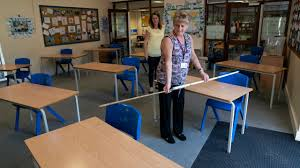desk: (153, 74, 253, 152), (0, 80, 78, 131), (214, 59, 287, 108), (72, 61, 137, 101), (39, 53, 89, 77), (0, 62, 31, 85), (83, 47, 120, 62)
